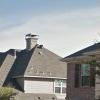Chimney: (23, 27, 41, 52)
